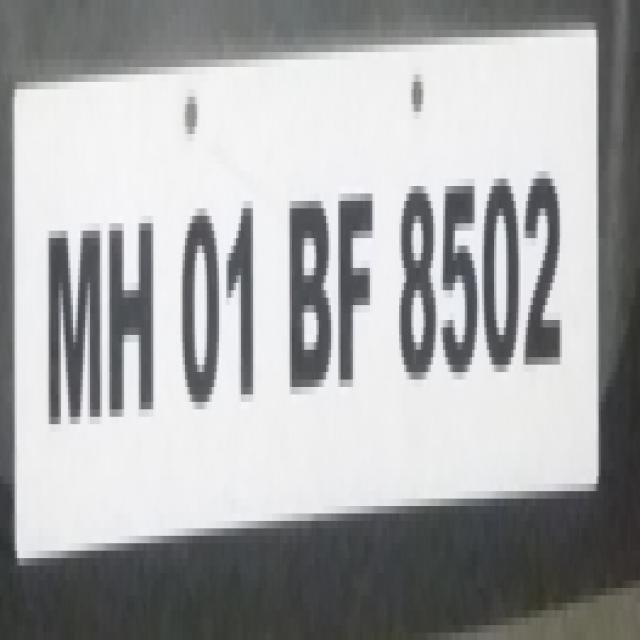0: (176, 198, 222, 408), (481, 170, 522, 384)
1: (225, 196, 262, 417)
5: (442, 173, 479, 378)
8: (392, 178, 438, 388)
B: (283, 176, 335, 406)
F: (336, 184, 378, 404)
H: (106, 214, 160, 425)
M: (38, 200, 104, 433)
